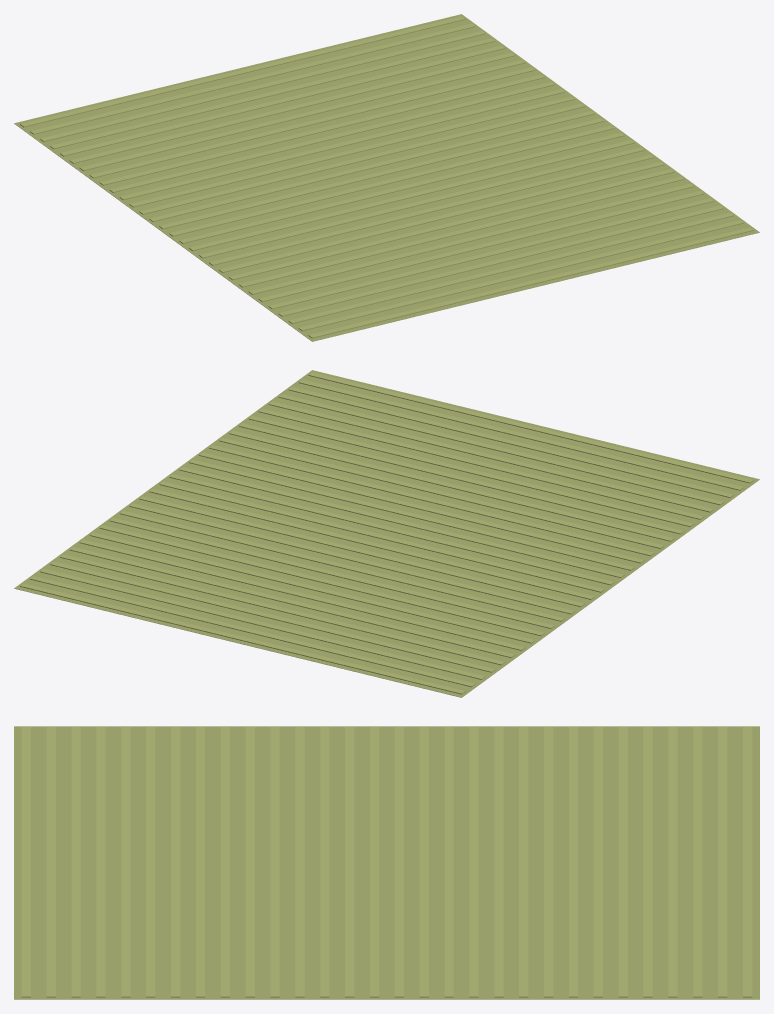
Rendered from crop-0.glb.
3 views of the same model, one above another, from view 1: azimuth 30°, elevation 25°; view 2: azimuth 150°, elevation 25°; view 3: azimuth 270°, elevation 25° (orthographic). The views are drawn at different scales.
Size of the model in its own units: 52 by 0.125 by 60.
